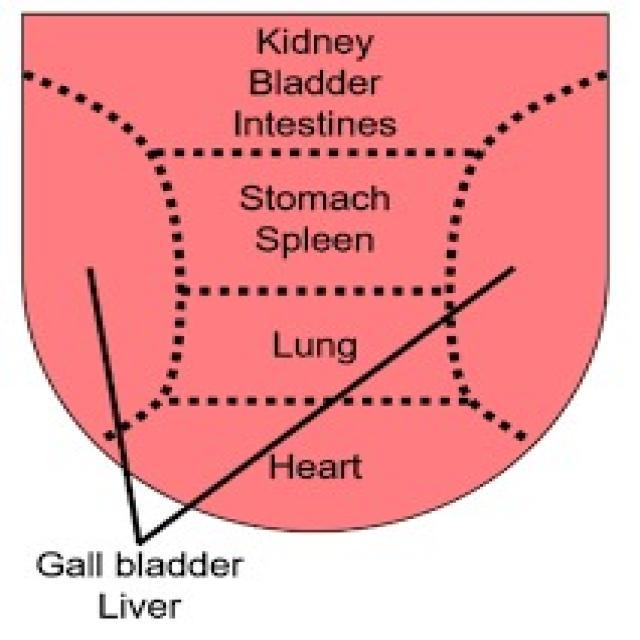discolored_patch: (21, 18, 610, 533)
